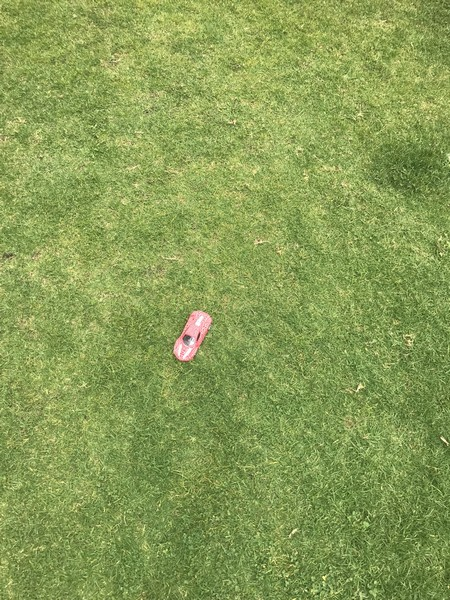RC: (172, 308, 215, 366)
